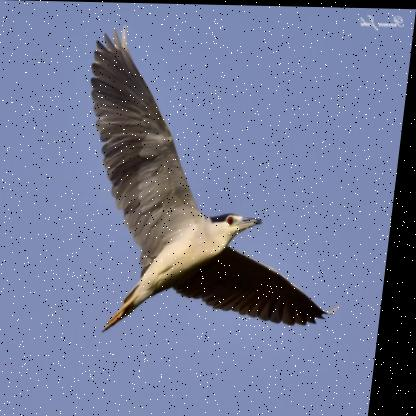Burung: (56, 23, 371, 335)
